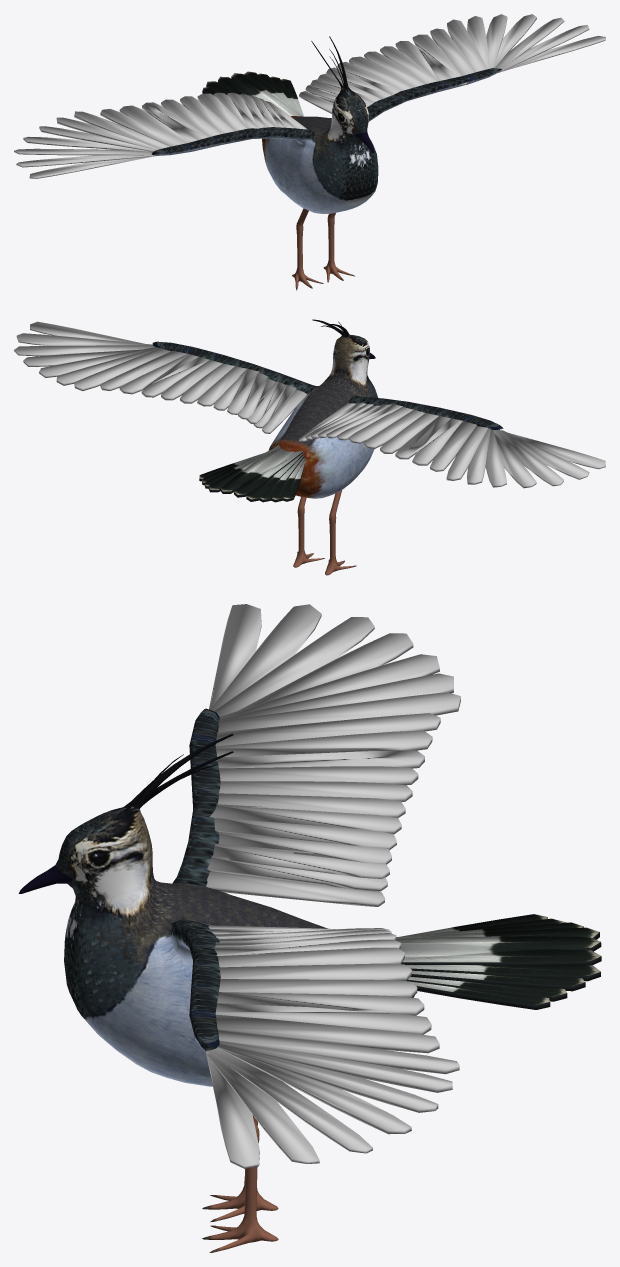
Rendered from Kiebitz_Pro-steht-komplett-03.obj.
3 views of the same model, one above another, from view 1: azimuth 30°, elevation 25°; view 2: azimuth 150°, elevation 25°; view 3: azimuth 270°, elevation 25° (orthographic). The views are drawn at different scales.
Visible parts, largest first — view 1: Feder_d, Kiebitz_d, Feder_hinten, bein_c; view 2: Feder_d, Kiebitz_d, Feder_hinten, bein_c; view 3: Feder_d, Kiebitz_d, Feder_hinten, bein_c.
Boxes of the visible parts, x1,y1,x2,y2 form: Feder_d: (14, 14, 605, 178); Kiebitz_d: (151, 36, 501, 213); Feder_hinten: (200, 71, 303, 116); bein_c: (292, 208, 355, 290); Feder_d: (14, 321, 605, 488); Kiebitz_d: (152, 319, 503, 498); Feder_hinten: (199, 444, 306, 502); bein_c: (293, 490, 356, 575); Feder_d: (188, 604, 460, 1168); Kiebitz_d: (18, 708, 415, 1086); Feder_hinten: (396, 914, 601, 1009); bein_c: (202, 1115, 278, 1252).
Size of the model in its own units: 161 by 64.37 by 70.47.
